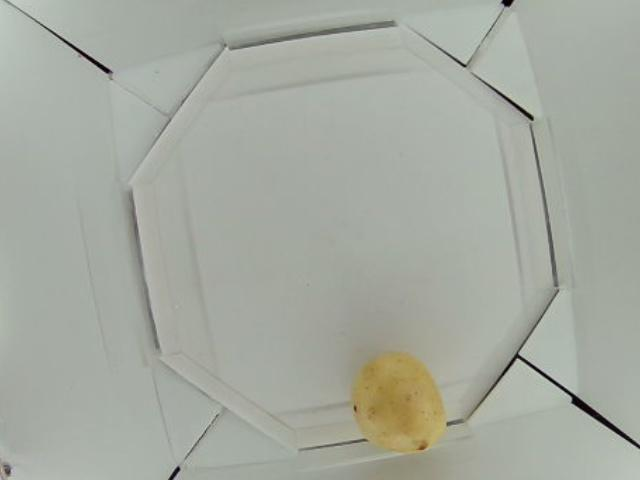Potato: (350, 351, 448, 454)
